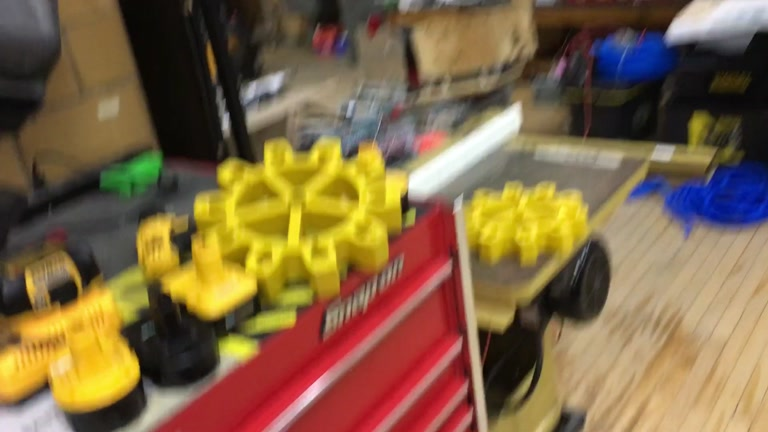gear: (190, 133, 406, 297), (448, 182, 588, 264)
